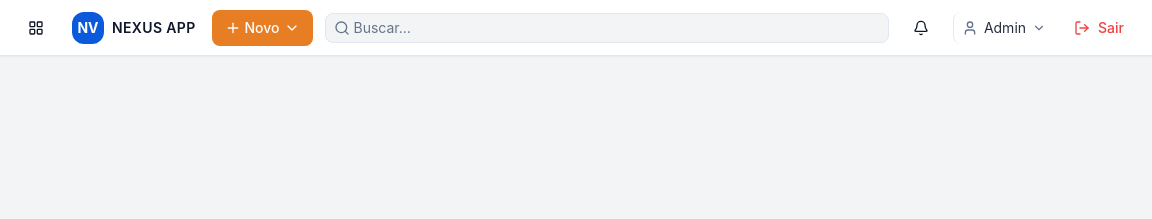
Header 401493 › criar rápido só expõe rotas de criação que existem
Click the button with aria-label "Criar rapidamente" at point(262, 28), box [212, 10, 312, 46]
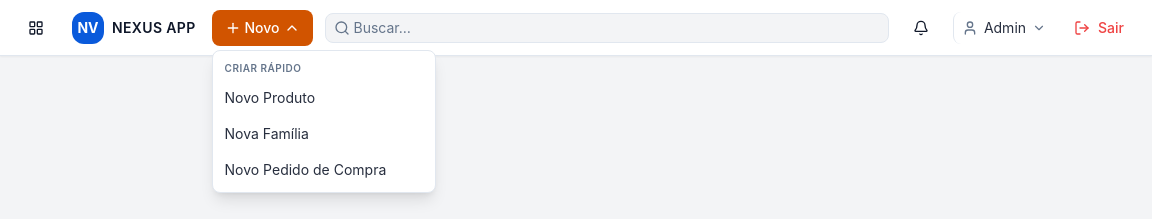
Expected: the menu item "Novo Produto" is shown, [212, 80, 434, 116]
Expected: the menu item "Nova Família" is shown, [212, 116, 434, 152]
Expected: the menu item "Novo Pedido de Compra" is shown, [212, 152, 434, 188]
